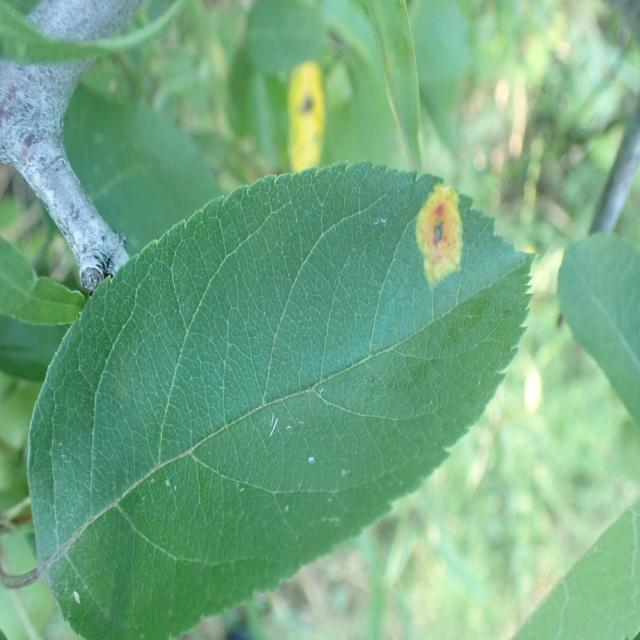Rust: (406, 156, 478, 309)
